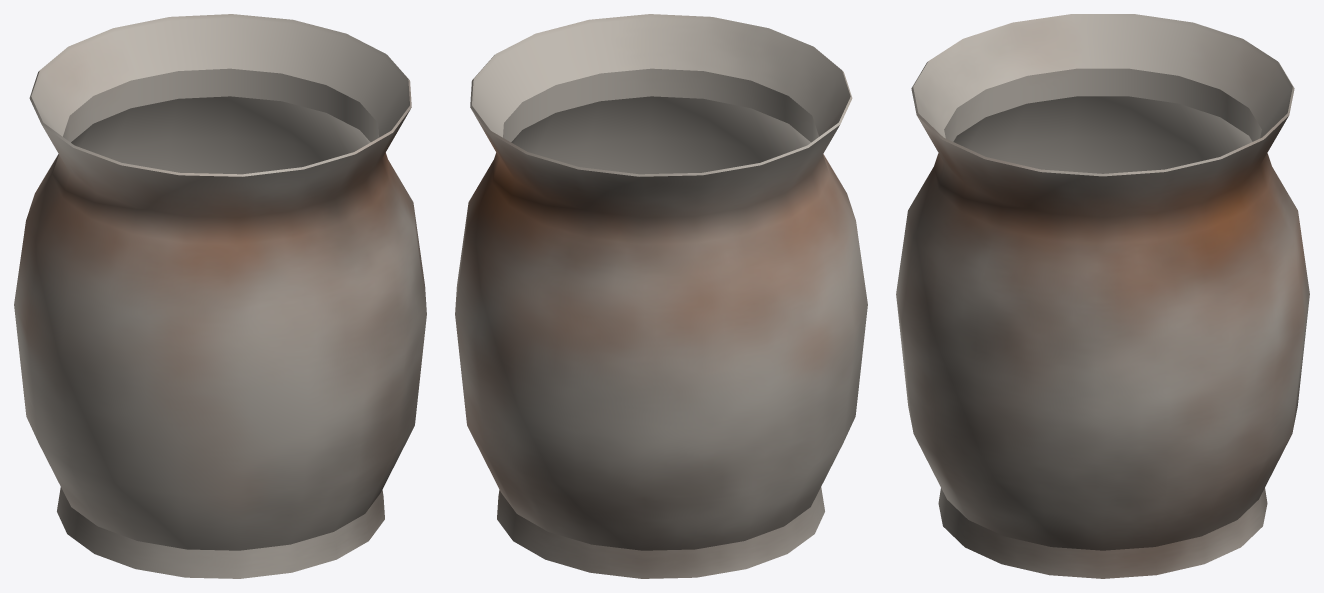
File: TEXTURED VASE 3.fbx
3 views of the same model, side by side, from view 1: azimuth 30°, elevation 25°; view 2: azimuth 150°, elevation 25°; view 3: azimuth 270°, elevation 25° (orthographic).
Parts seen in each view (by area): view 1: polySurface10; view 2: polySurface10; view 3: polySurface10.
Boxes of the visible parts, <box> form: polySurface10: <box>14,14,426,578</box>; polySurface10: <box>455,14,867,578</box>; polySurface10: <box>896,14,1309,578</box>.
Bounding box in the file's own units: 1.73 × 1.93 × 1.74.
